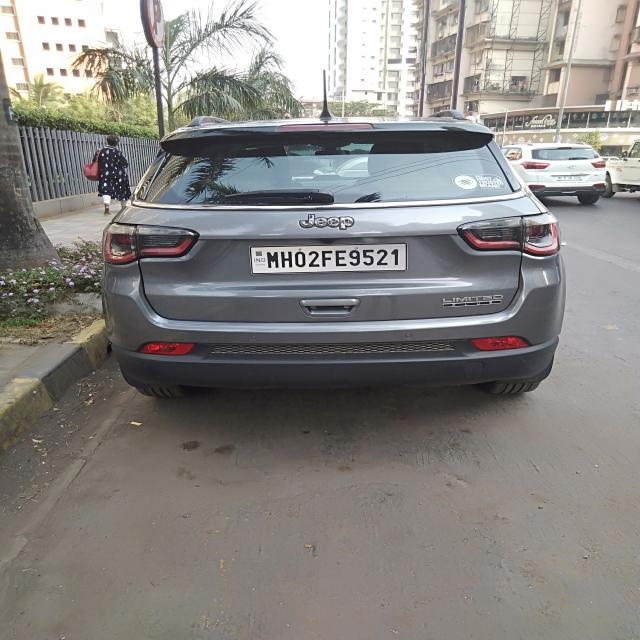Number-Plate: (250, 245, 404, 275)
